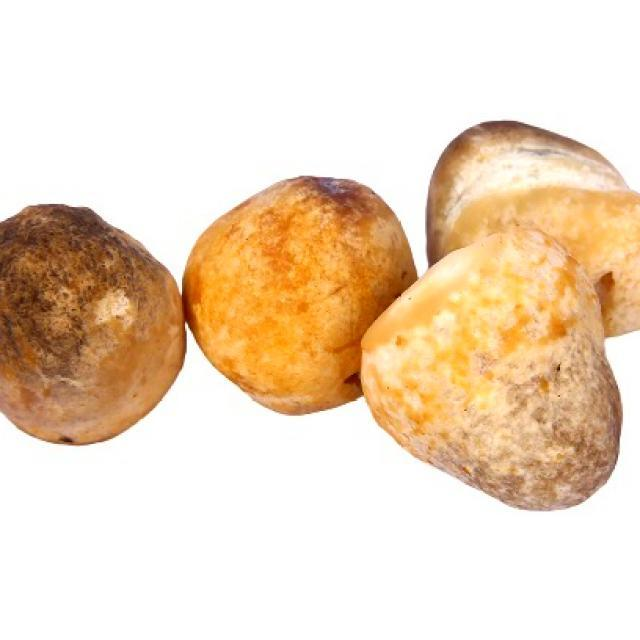Mushroom: (0, 118, 640, 512), (361, 233, 625, 510), (190, 172, 408, 418), (0, 199, 182, 439)
